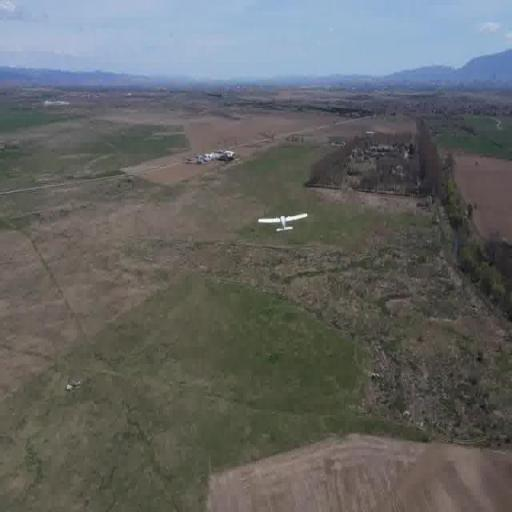uav: (254, 204, 309, 240)
